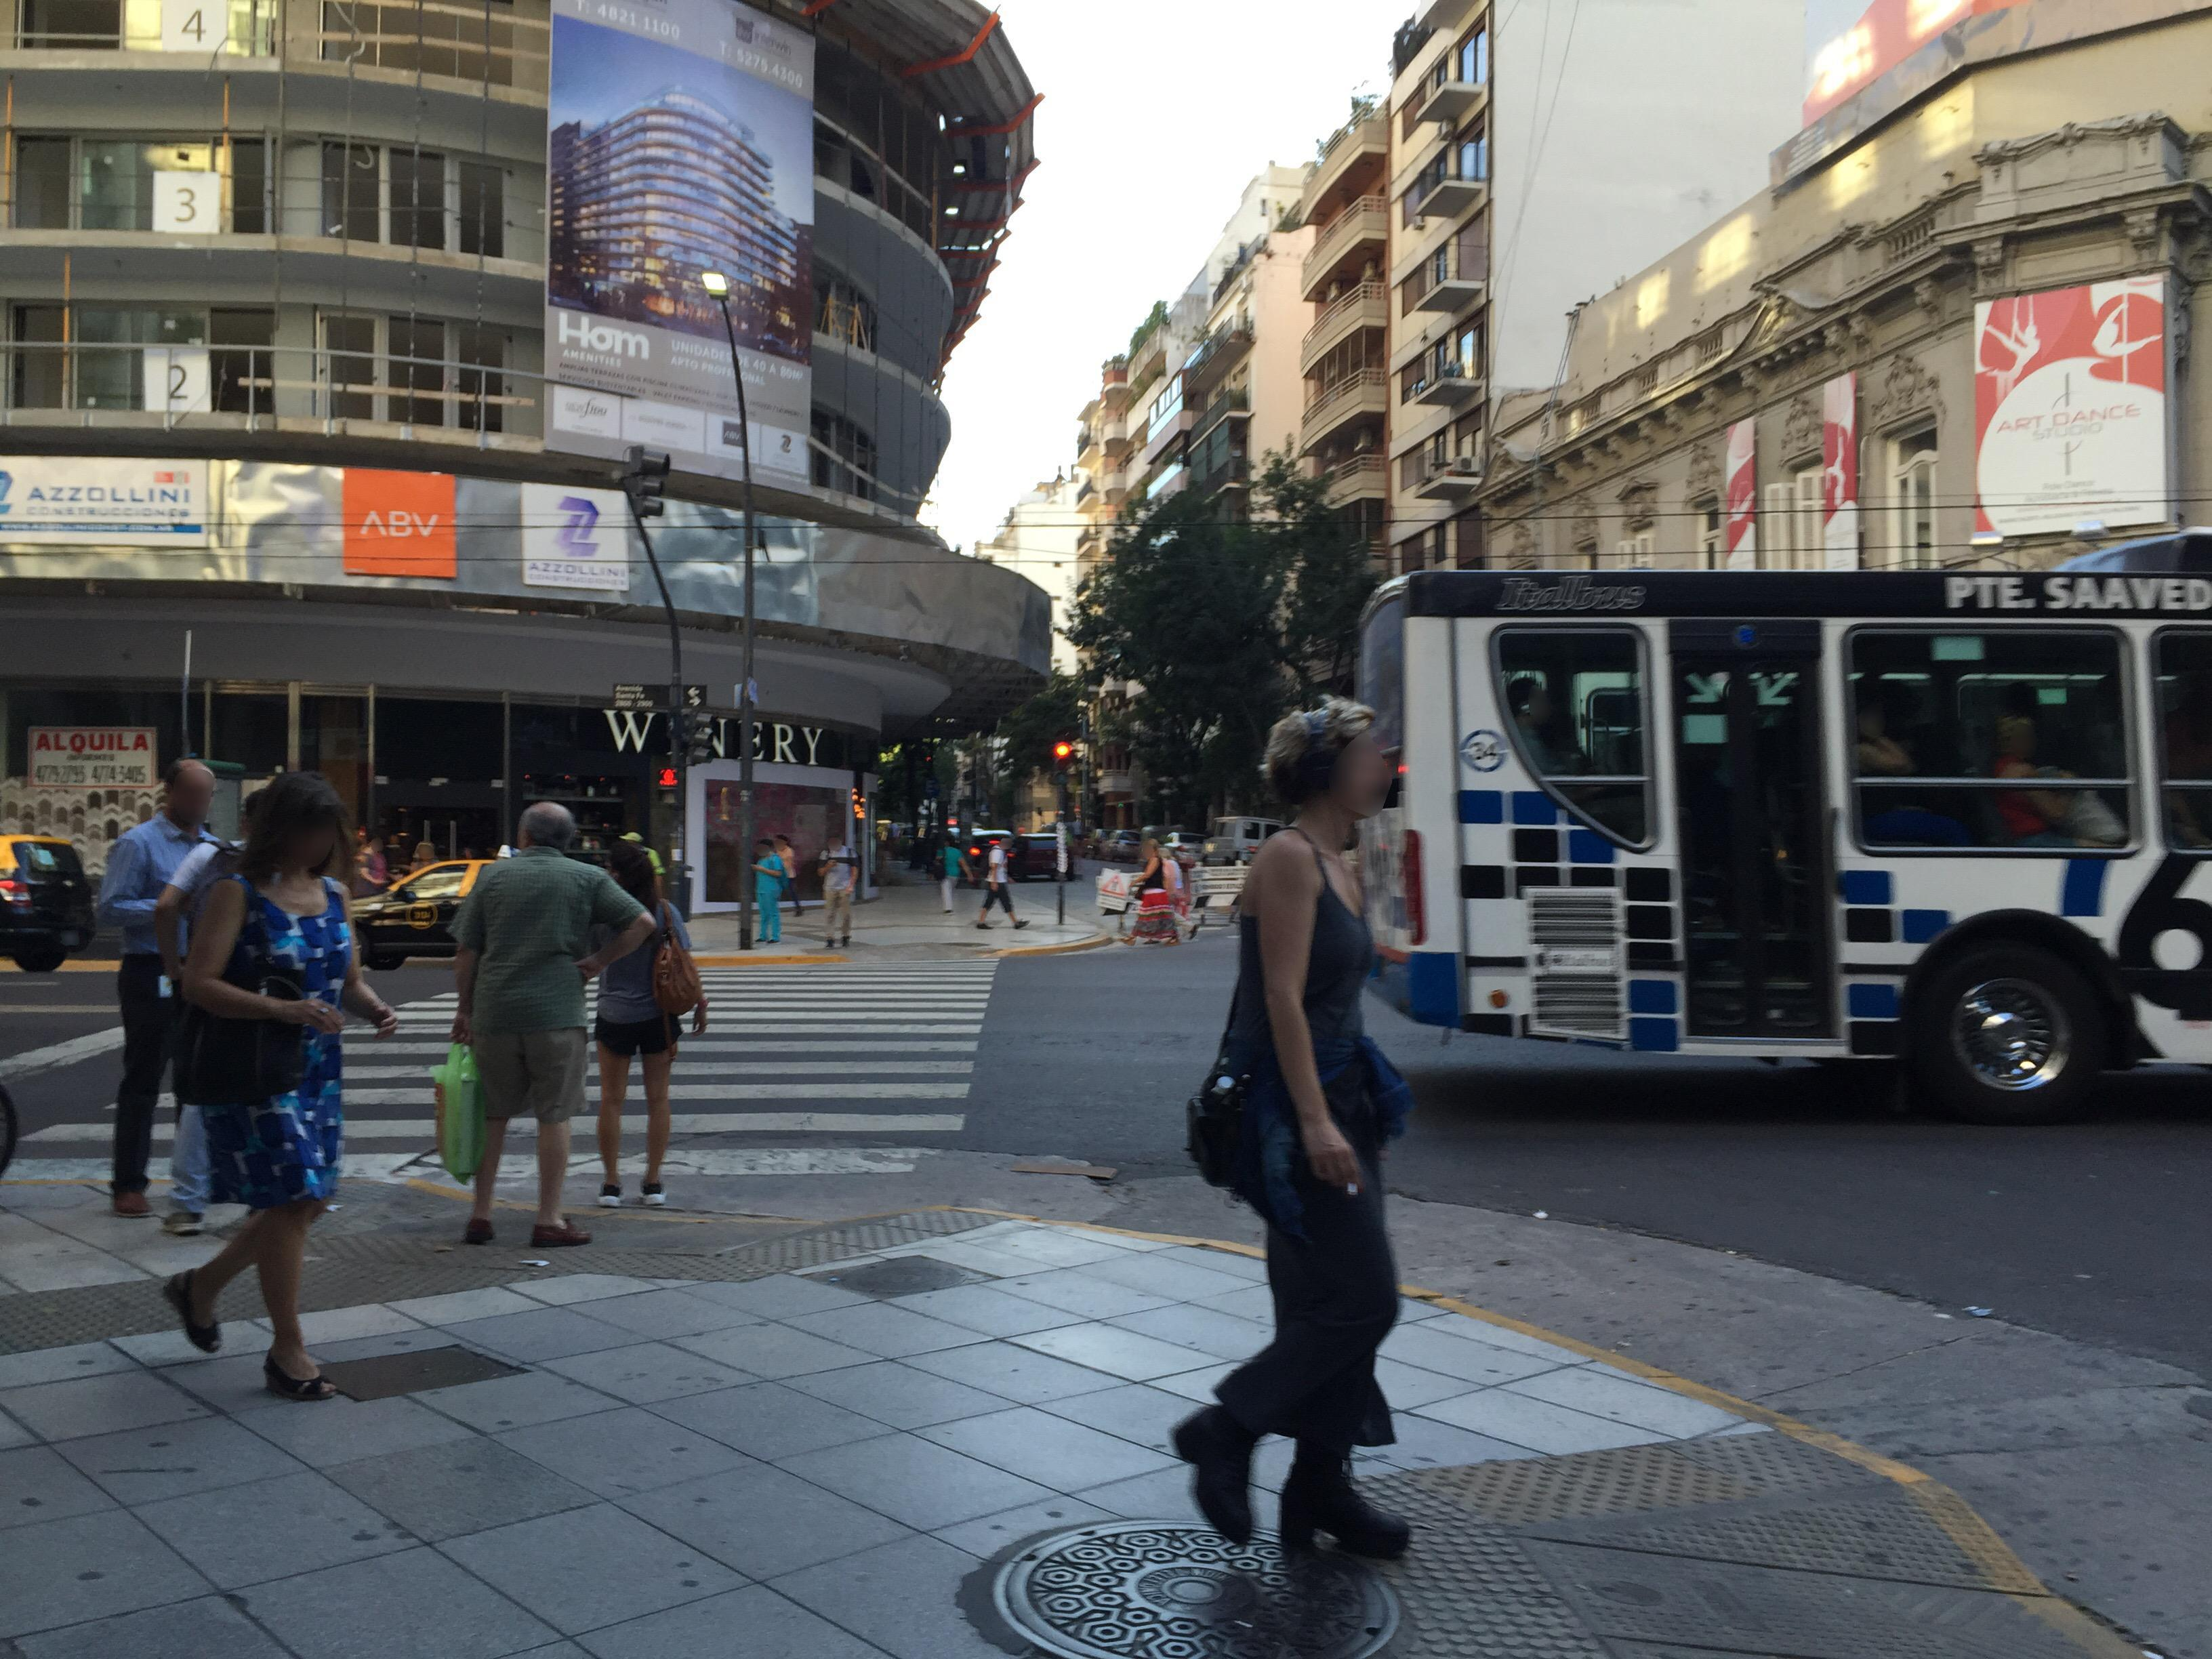vinyl banner: (12, 446, 207, 561), (336, 464, 467, 608), (517, 467, 643, 606), (1810, 366, 1872, 591), (1723, 390, 1773, 589)
